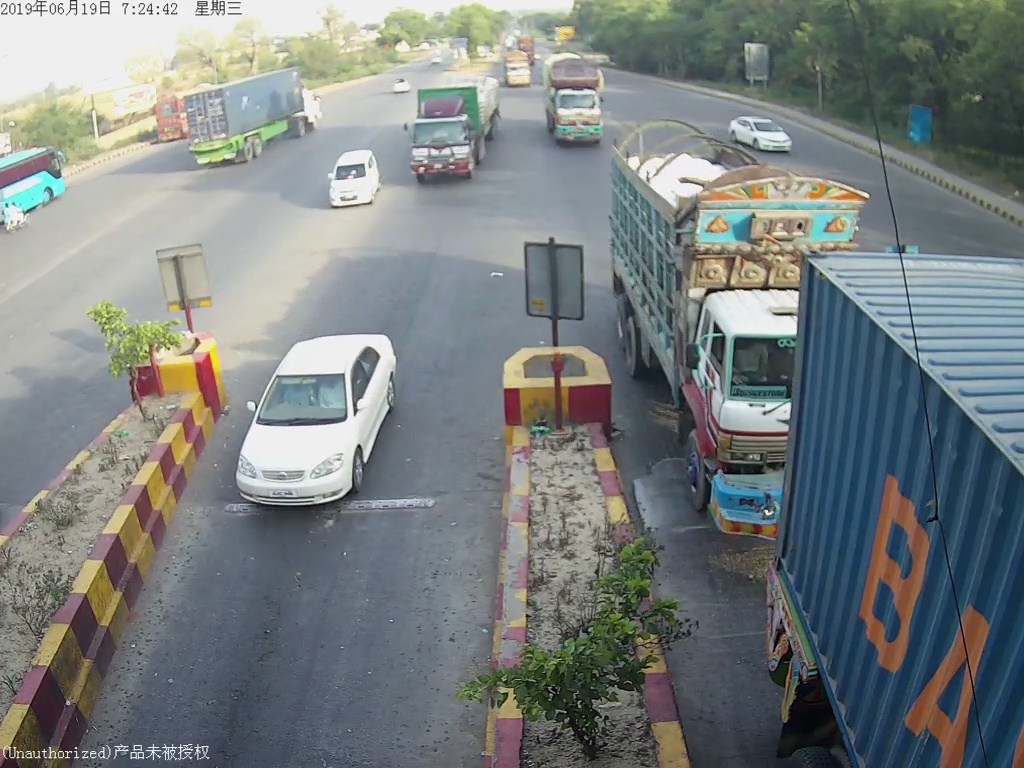Cat-1: (231, 324, 407, 524), (322, 148, 384, 222)
Cat-4: (614, 116, 781, 507), (541, 50, 602, 157)
Cat-5: (412, 71, 503, 176)
